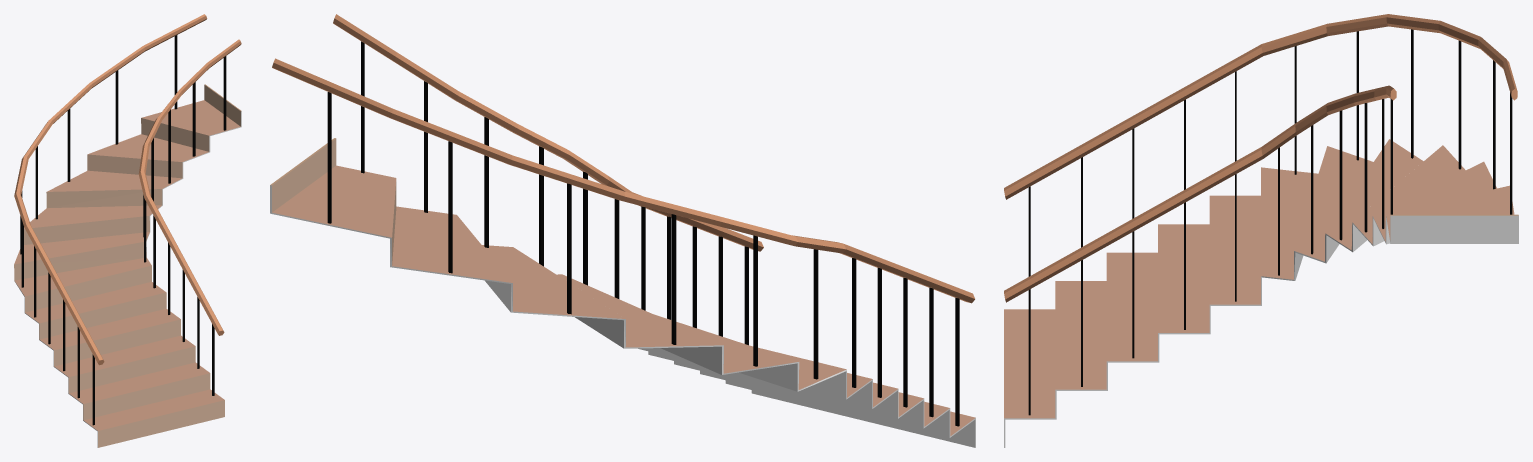
Rendered from sh-contrib-stairs-topcurve-90.glb.
3 views of the same model, side by side, from view 1: azimuth 30°, elevation 25°; view 2: azimuth 150°, elevation 25°; view 3: azimuth 270°, elevation 25° (orthographic). The views are drawn at different scales.
Parts seen in each view (by area): view 1: 43_43, 1_1.001, Cube.010; view 2: 43_43, Cube.010, 1_1.001; view 3: 43_43, 1_1.001, Cube.010.
Boxes of the visible parts, x1,y1,x2,y2 form: 43_43: (14,84,241,447); 1_1.001: (14,14,241,365); Cube.010: (20,35,226,425); 43_43: (270,138,975,447); Cube.010: (327,41,959,426); 1_1.001: (272,14,974,303); 43_43: (1004,139,1518,447); 1_1.001: (1004,14,1517,302); Cube.010: (1028,29,1512,415).
Bounding box in the file's own units: 1 × 1 × 1.
